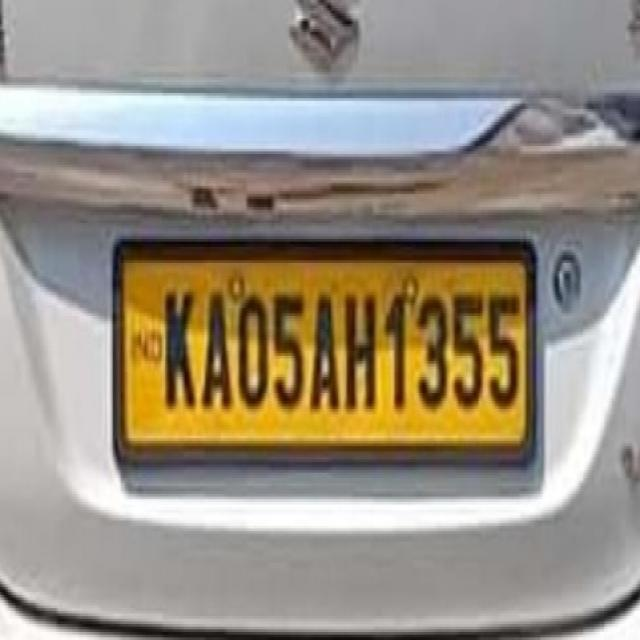0: (232, 292, 270, 418)
1: (380, 285, 407, 420)
3: (415, 284, 451, 418)
5: (268, 278, 306, 411), (484, 281, 522, 413), (451, 285, 484, 413)
A: (196, 291, 233, 418), (310, 285, 343, 422)
H: (339, 286, 378, 408)
K: (161, 272, 197, 416)
